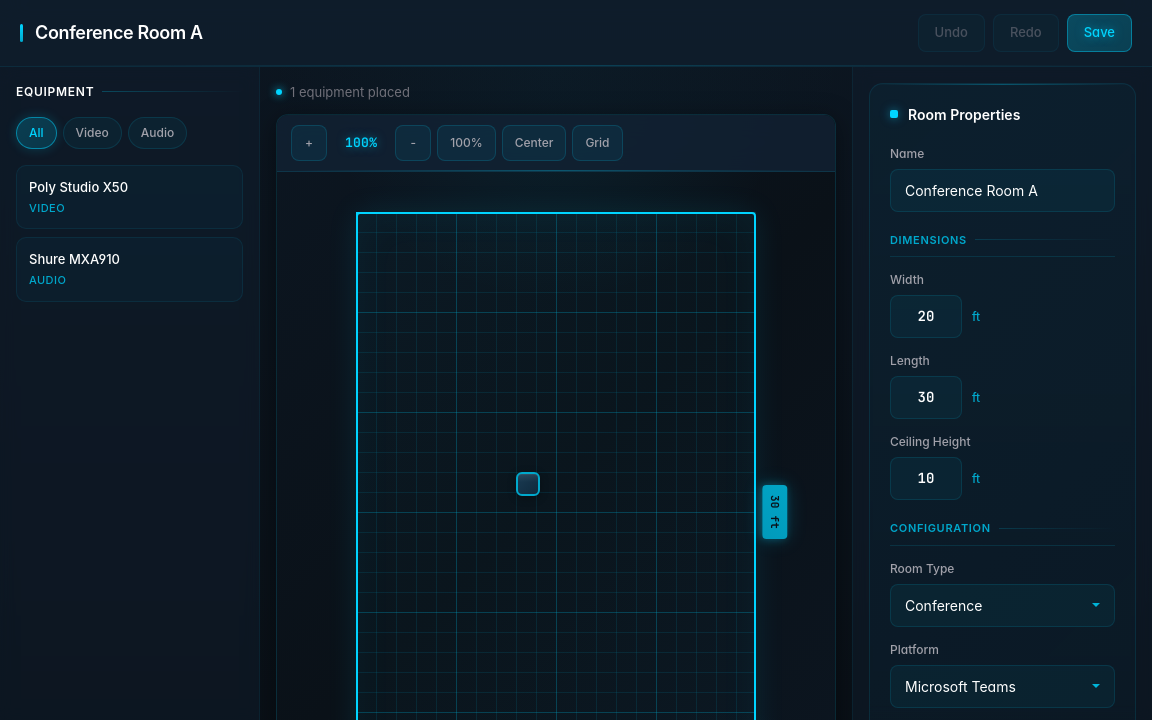
Test case: RoomBuilder › Toolbar › renders delete equipment button when equipment is selected
What coordinates should you click on to do the following:
click the element with test id "placed-equipment-pe-1"
I would click on:
 (528, 484)
Its box is [516,472,540,496].
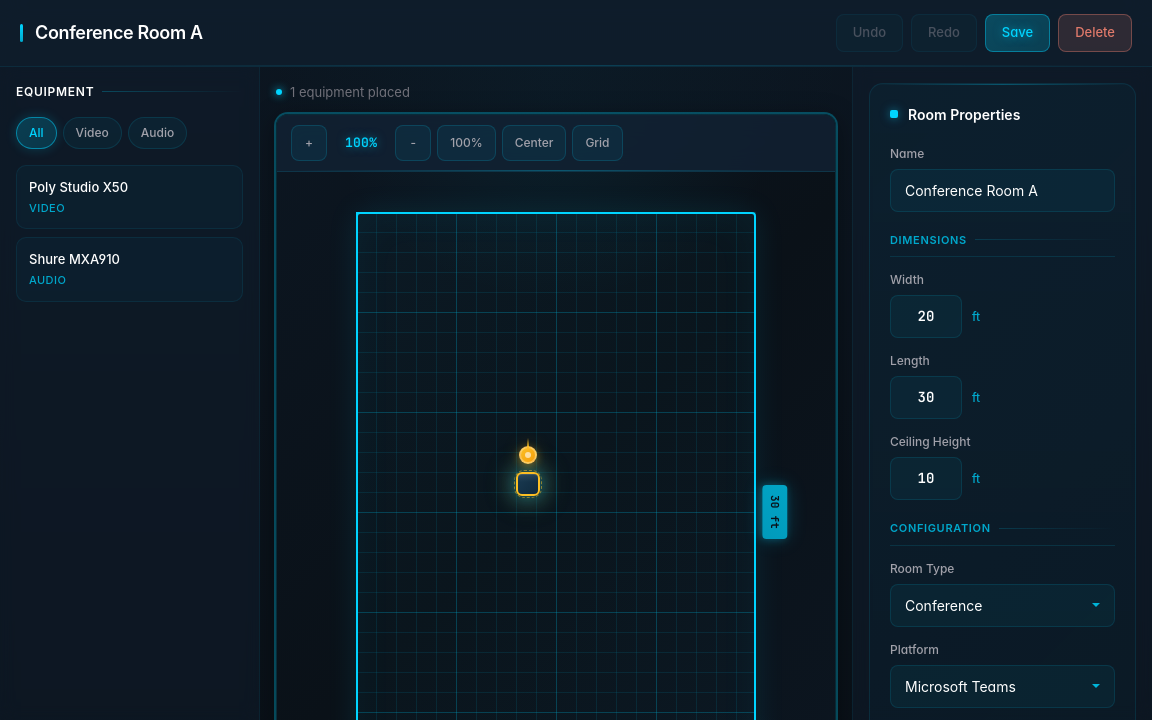
expect the button "Delete" is shown: met, box [1058,14,1132,52]
